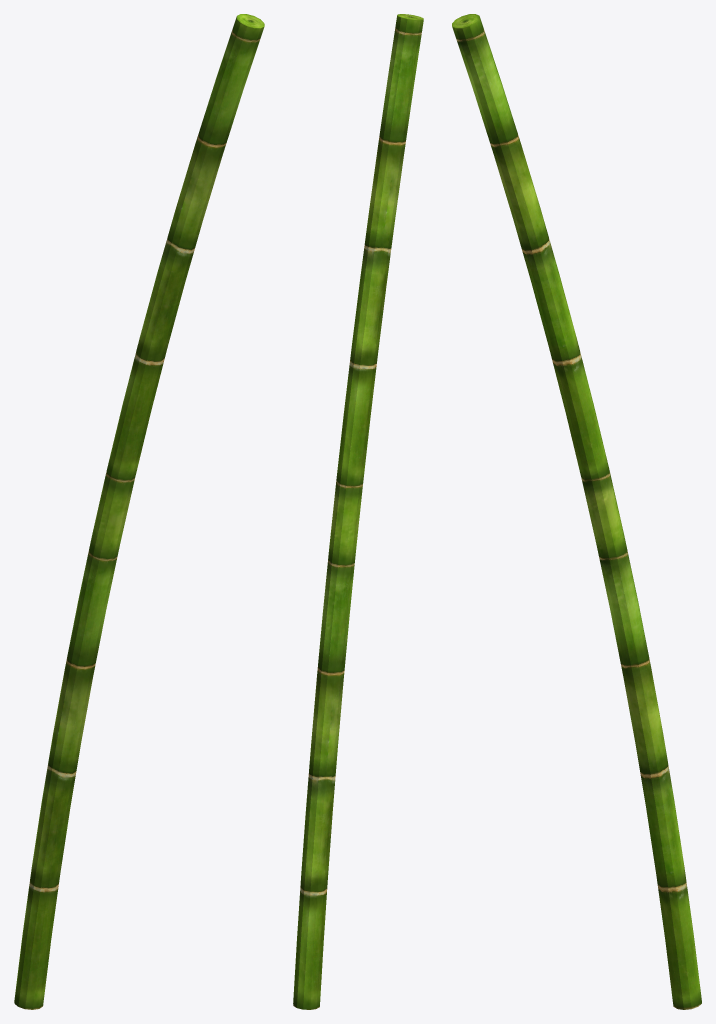
The model's file is bamboo.FBX.
3 renders of one model, left to right at view 1: azimuth 90°, elevation 25°; view 2: azimuth 150°, elevation 25°; view 3: azimuth 270°, elevation 25°, orthographic. The views are drawn at different scales.
Parts seen in each view (by area): view 1: Object001; view 2: Object001; view 3: Object001.
Part boxes in pixels (x1,y1,x2,y2): Object001: (14,14,264,1009); Object001: (293,14,423,1009); Object001: (452,14,701,1009).
Size of the model in its own units: 7.07 by 258 by 59.08.
